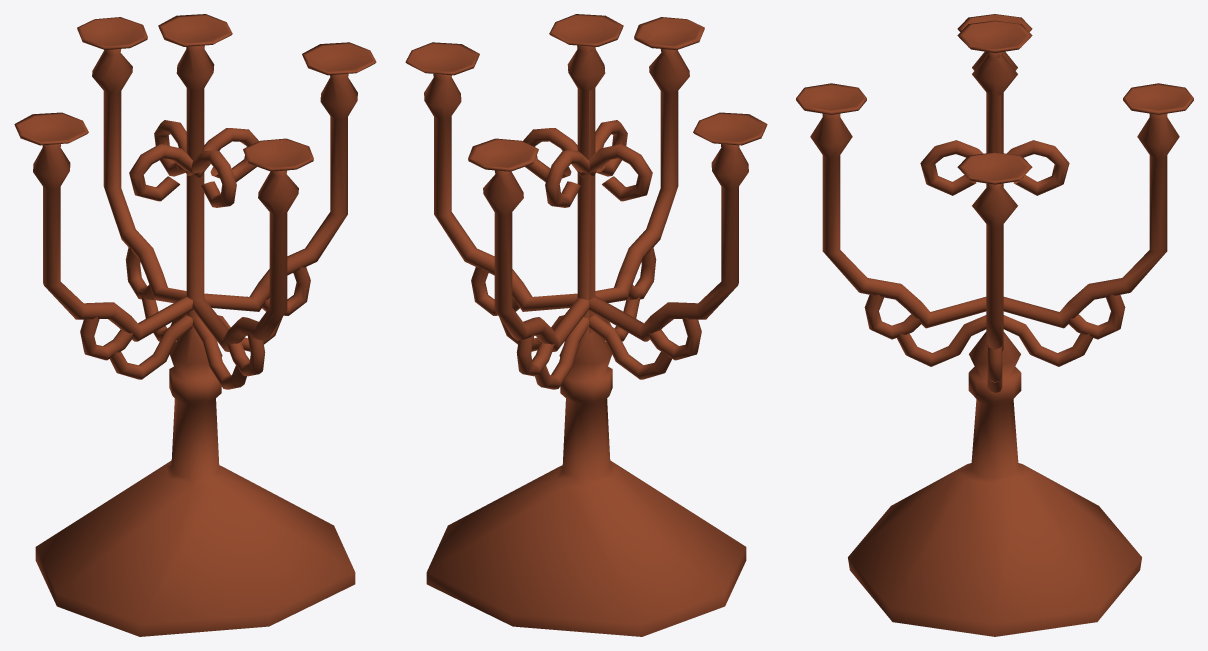
The model's file is model_Castiçal_01.fbx.
The picture shows the model from 3 angles, left to right: view 1: azimuth 30°, elevation 25°; view 2: azimuth 150°, elevation 25°; view 3: azimuth 270°, elevation 25°; orthographic projection.
Visible parts, largest first — view 1: Cylinder.002; view 2: Cylinder.002; view 3: Cylinder.002.
Part boxes in pixels (box(x1,y1,x2,y2)): Cylinder.002: box(14, 14, 376, 636); Cylinder.002: box(405, 14, 767, 636); Cylinder.002: box(796, 14, 1193, 636).
Size of the model in its own units: 192 by 285 by 192.
